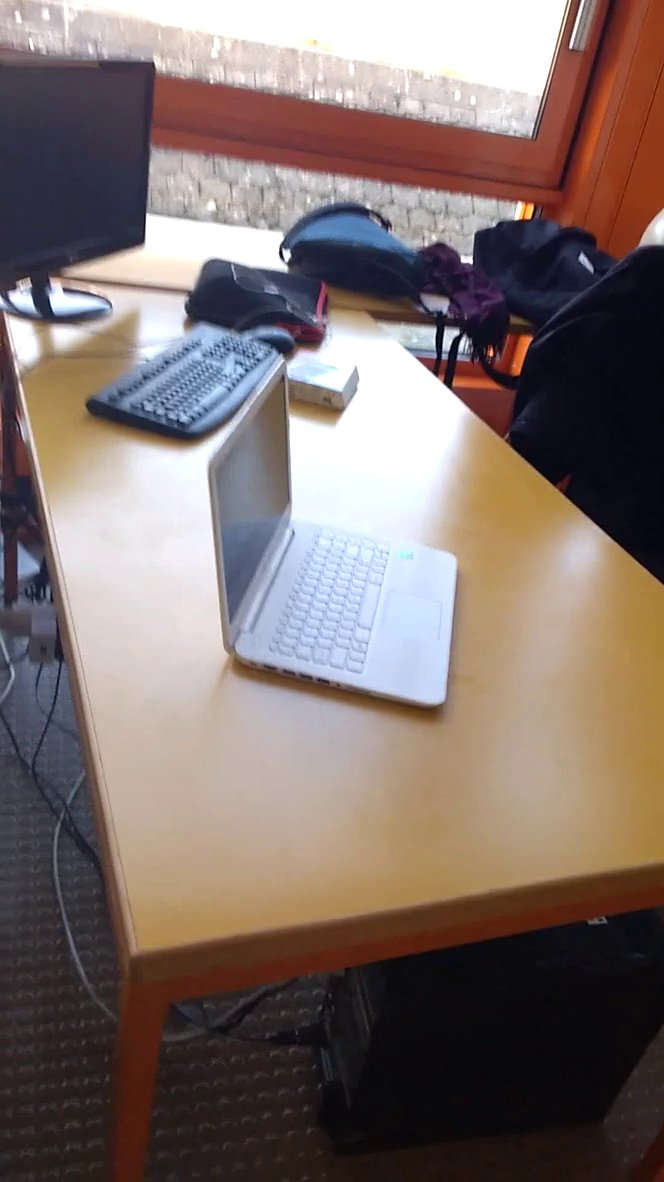bag: (466, 208, 655, 335), (271, 192, 441, 317)
laptop: (191, 350, 470, 723)
